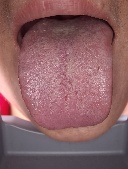tongue: (16, 32, 114, 130)
